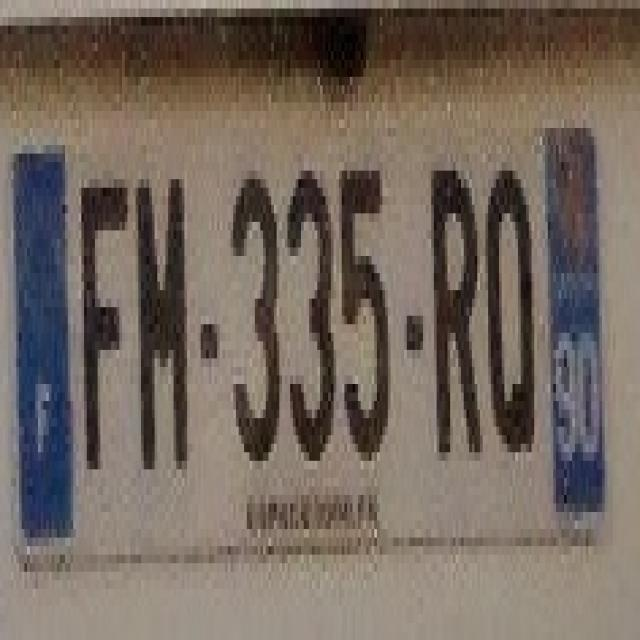EU: (4, 126, 616, 557)
France: (14, 142, 73, 556)
